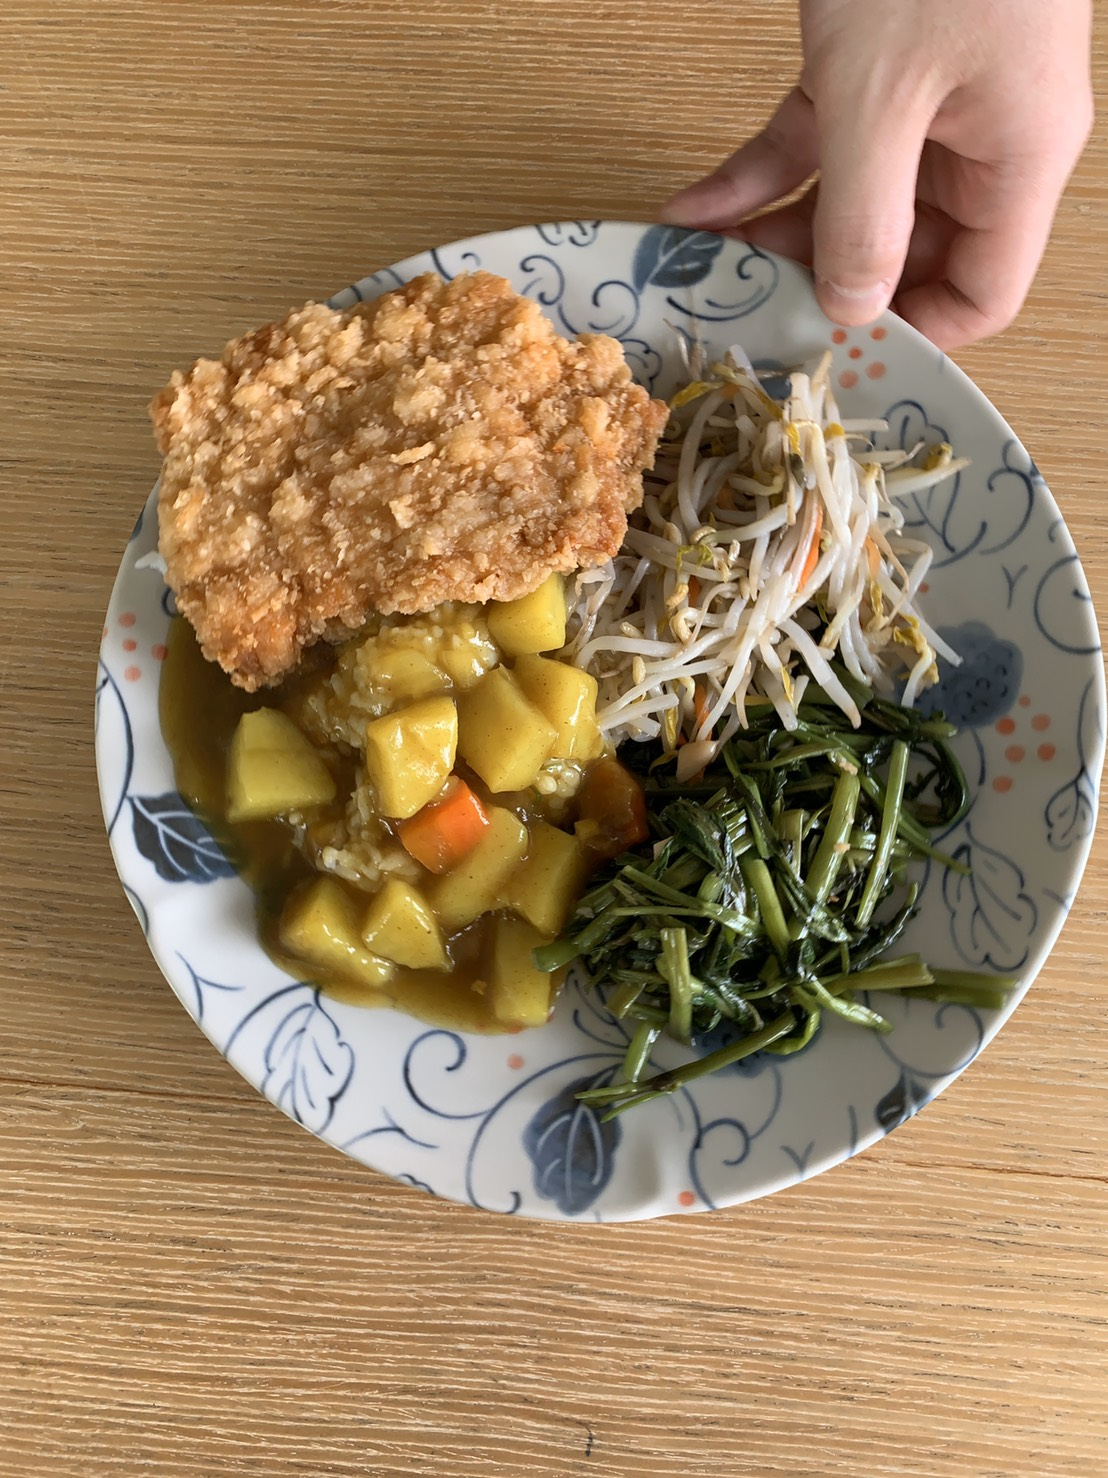curry: (213, 658, 585, 971)
fried_chicken: (186, 351, 623, 578)
mung_bean_sprouts: (672, 384, 902, 703)
water_spinach: (622, 759, 926, 1028)
